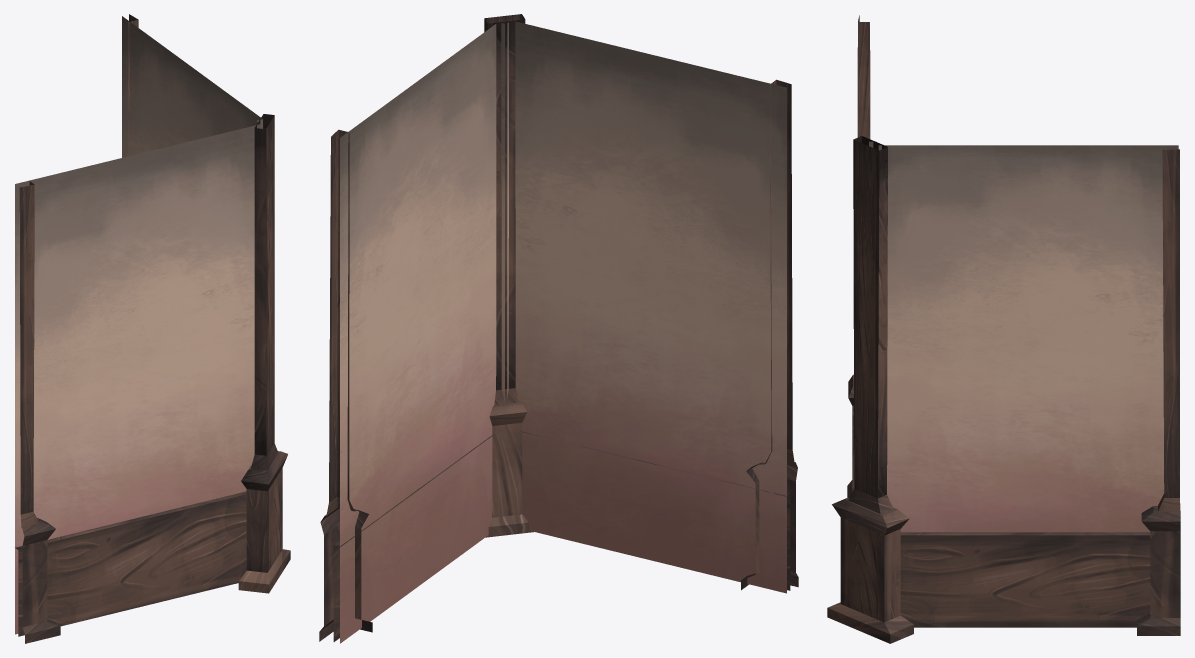
File: Wall_Bot_Outer_Corner_LOD1.fbx
3 renders of one model, left to right at view 1: azimuth 30°, elevation 25°; view 2: azimuth 150°, elevation 25°; view 3: azimuth 270°, elevation 25°, orthographic. The views are drawn at different scales.
Parts seen in each view (by area): view 1: Outer_Corner_Wall_Bot1; view 2: Outer_Corner_Wall_Bot1; view 3: Outer_Corner_Wall_Bot1.
Boxes of the visible parts, <box> form: Outer_Corner_Wall_Bot1: <box>15,14,290,643</box>; Outer_Corner_Wall_Bot1: <box>319,14,798,643</box>; Outer_Corner_Wall_Bot1: <box>827,15,1180,643</box>.
Size of the model in its own units: 0.0279 by 0.0423 by 0.028.
